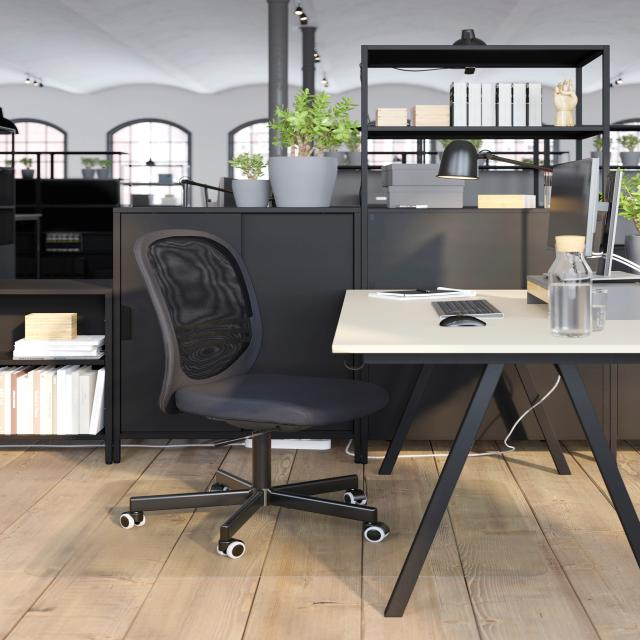chair: (77, 194, 458, 610)
